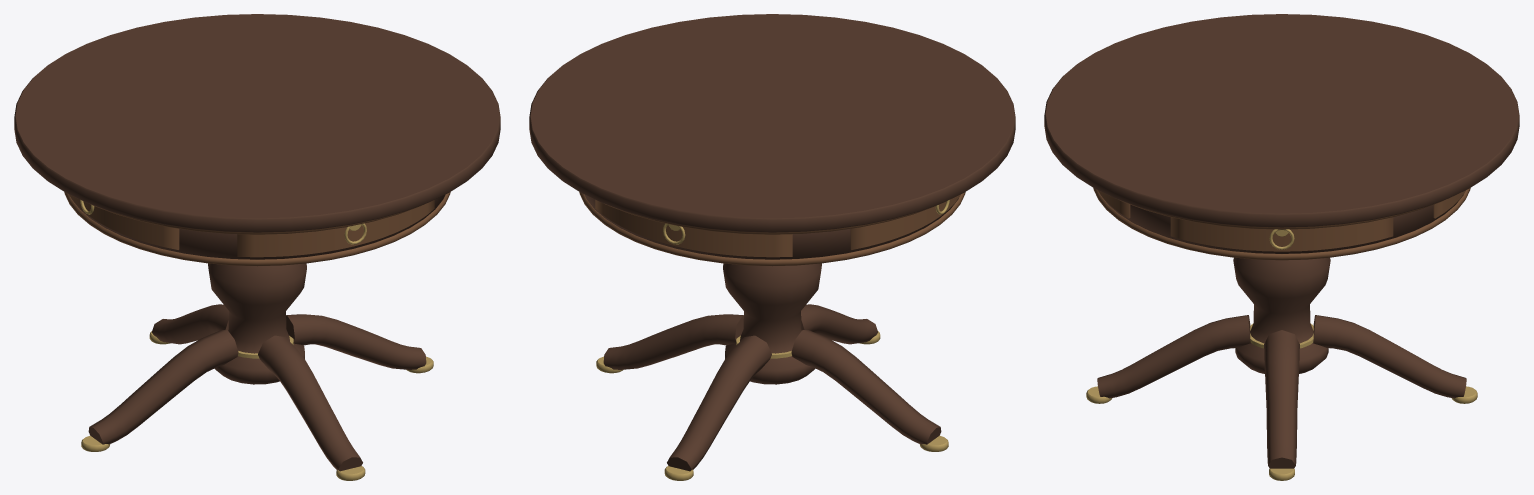
File: rpg-mansion-drum-library-table-01.glb
3 views of the same model, side by side, from view 1: azimuth 30°, elevation 25°; view 2: azimuth 150°, elevation 25°; view 3: azimuth 270°, elevation 25° (orthographic). The views are drawn at different scales.
Parts seen in each view (by area): view 1: rpg-mansion-drum-library-table-01; view 2: rpg-mansion-drum-library-table-01; view 3: rpg-mansion-drum-library-table-01.
Part boxes in pixels (left/top/right/bottom): rpg-mansion-drum-library-table-01: left=14, top=14, right=500, bottom=480; rpg-mansion-drum-library-table-01: left=529, top=14, right=1015, bottom=480; rpg-mansion-drum-library-table-01: left=1044, top=14, right=1519, bottom=480.
Bounding box in the file's own units: 1.12 × 0.74 × 1.12.
